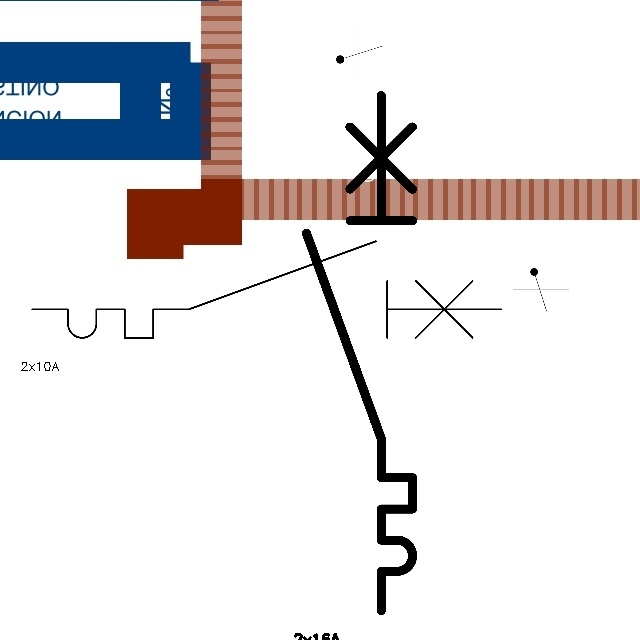interruptor_termomagnetico: (293, 82, 426, 624), (20, 229, 513, 350)
